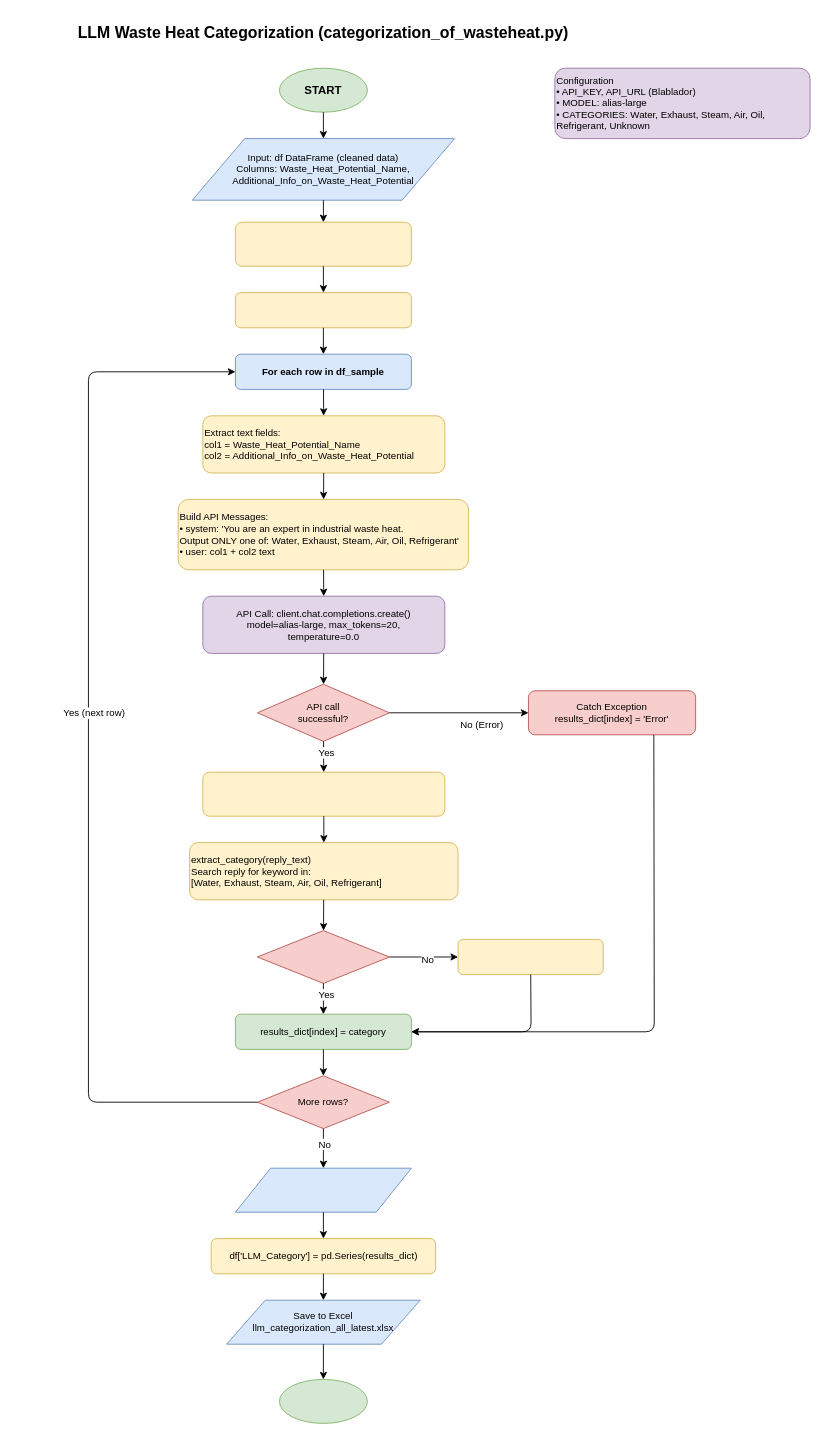
Some shapes in this 825 by 1439 pixel diagram are drawn without their labels. The shapes that lost their labels are listed below. From the top down, each one's centre as x and y in pixels, then its label:
At [323,243]: "Initialize OpenAI client (pointed at Blablador API URL)".
At [323,310]: "Initialize results_dict = {}".
At [323,793]: "Extract reply text from response.choices[0].message.content".
At [323,956]: "Keyword found?".
At [530,957]: "category = 'Unknown'".
At [323,1189]: "Return results_dict {index: category}".
At [323,1401]: "END".
